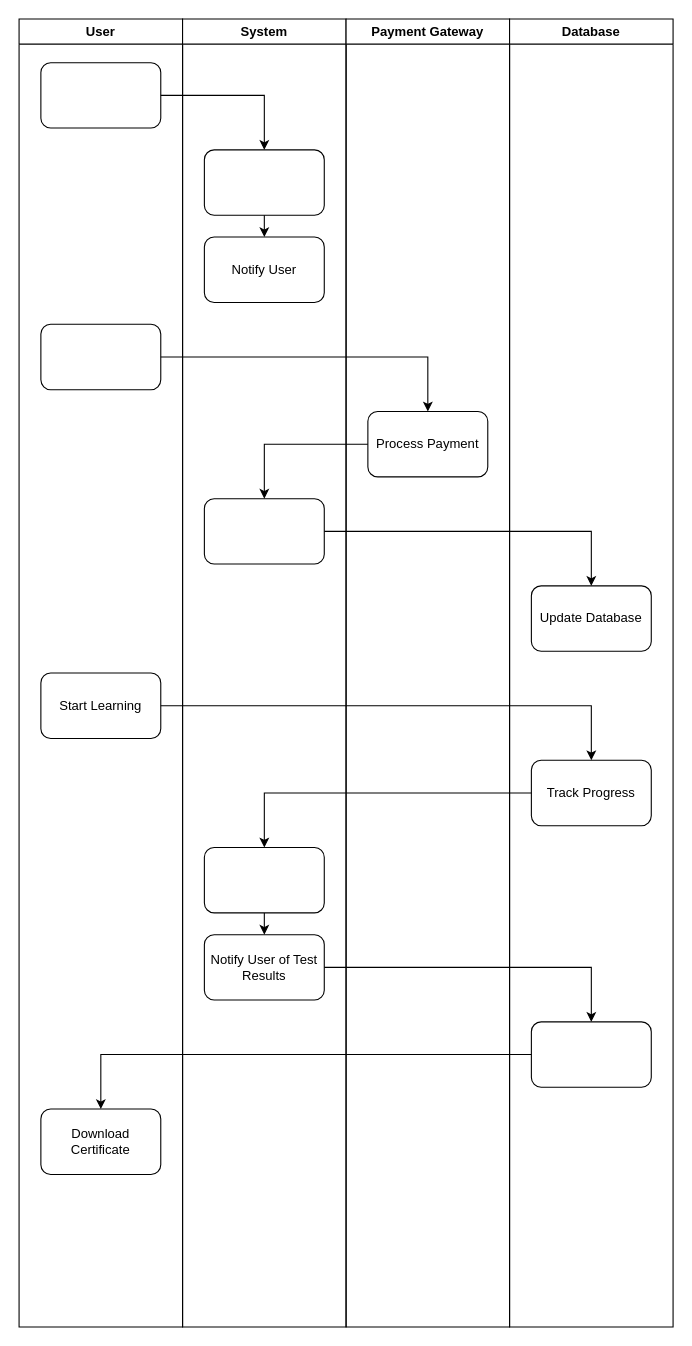
Some shapes in this 692 by 1346 pixel diagram are drawn without their labels. The shapes that lost their labels are listed below. From the top down, each one's centre as x and y in pixels, then its label:
At [100,95]: "Select Course".
At [263,182]: "Check Course Availability".
At [100,356]: "Choose Payment Method".
At [263,531]: "Notify User of Payment Status".
At [263,879]: "Check Results".
At [590,1054]: "Generate Certificate".
